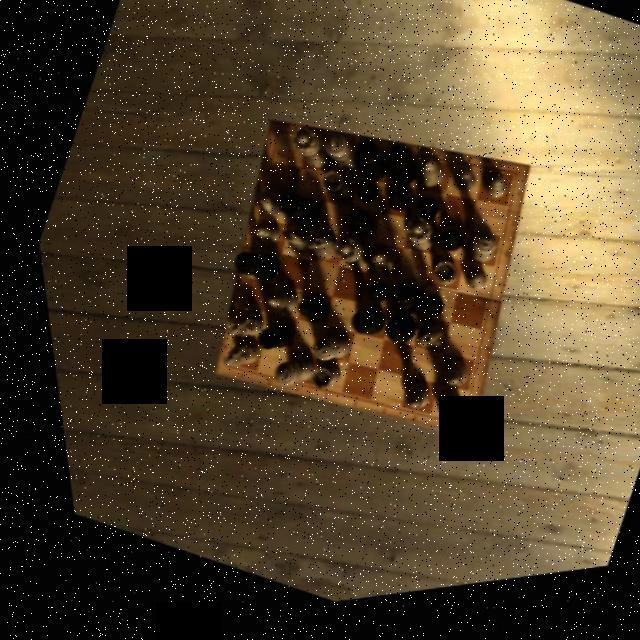chess-table-corners: (422, 417, 483, 477), (199, 353, 230, 383), (492, 174, 522, 202), (260, 126, 288, 152)
